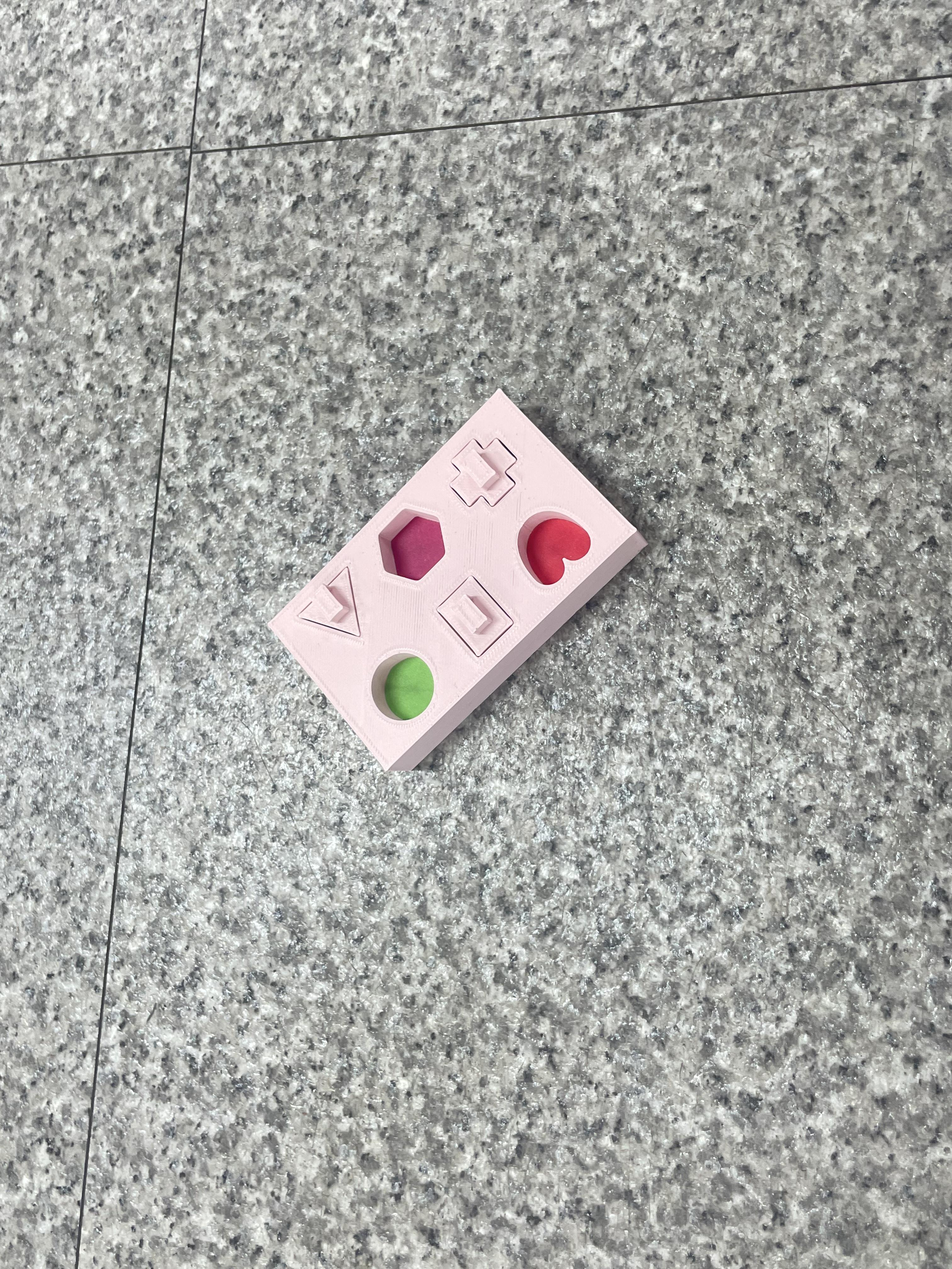unsolved: (261, 369, 657, 785)
